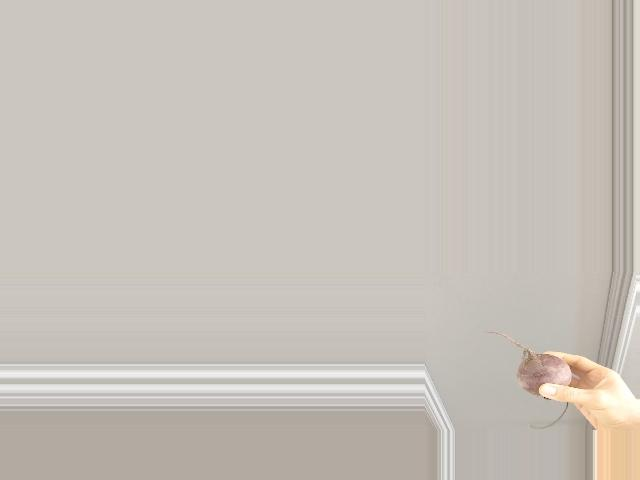beet: (482, 332, 570, 429)
